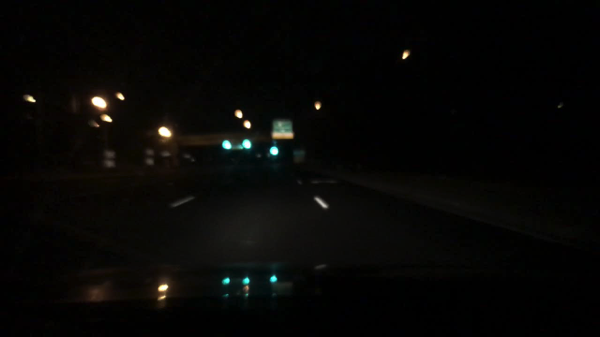traffic light: (242, 139, 254, 150), (222, 140, 232, 151), (269, 146, 279, 156)
traffic sign: (272, 118, 294, 139), (293, 149, 307, 164)
